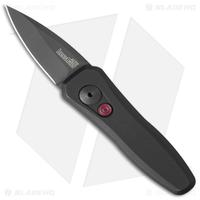knife: (2, 3, 173, 173)
